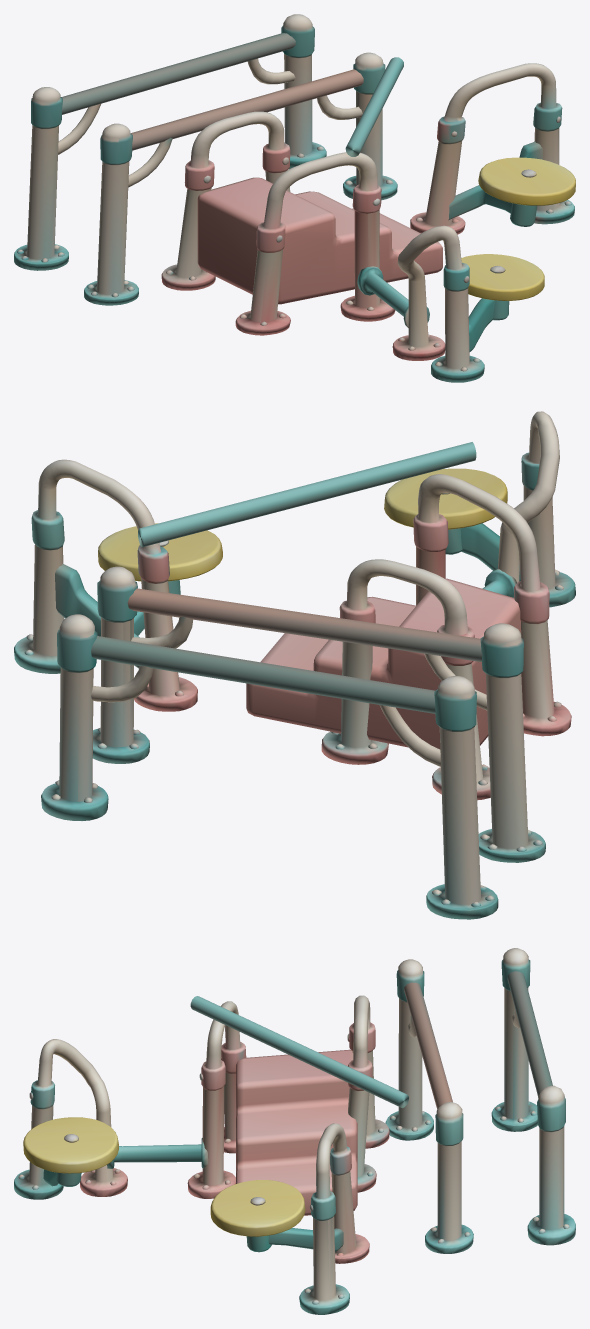
File: fitness.glb
3 views of the same model, one above another, from view 1: azimuth 30°, elevation 25°; view 2: azimuth 150°, elevation 25°; view 3: azimuth 270°, elevation 25° (orthographic). The views are drawn at different scales.
Visible parts, largest first — view 1: SM_fitness; view 2: SM_fitness; view 3: SM_fitness.
Part boxes in pixels (box(x1,y1,x2,y2)): SM_fitness: box(14, 14, 575, 382); SM_fitness: box(14, 411, 575, 919); SM_fitness: box(14, 948, 575, 1314).
Bounding box in the file's own units: 2.42 × 1 × 2.57.
